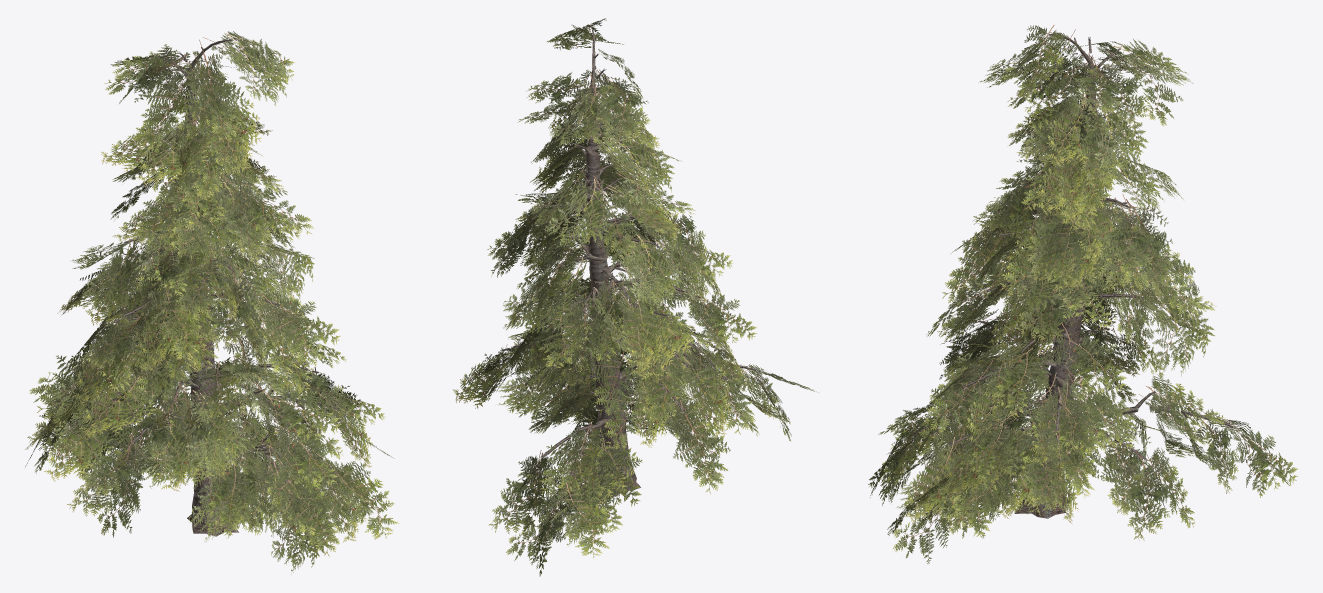
File: realfir.glb
The picture shows the model from 3 angles, left to right: view 1: azimuth 30°, elevation 25°; view 2: azimuth 150°, elevation 25°; view 3: azimuth 270°, elevation 25°; orthographic projection. The views are drawn at different scales.
Visible parts, largest first — view 1: Object_3, Object_7, Object_6, Object_4, Object_5, Object_9, Object_8, Object_2; view 2: Object_3, Object_5, Object_7, Object_9, Object_6, Object_4, Object_8, Object_2; view 3: Object_4, Object_6, Object_7, Object_3, Object_5, Object_9, Object_8, Object_2.
Part boxes in pixels (box(x1,y1,x2,y2)): Object_3: box(52, 31, 376, 574); Object_7: box(43, 98, 378, 542); Object_6: box(27, 47, 353, 528); Object_4: box(39, 63, 385, 547); Object_5: box(25, 44, 351, 556); Object_9: box(25, 31, 398, 539); Object_8: box(29, 33, 394, 537); Object_2: box(81, 39, 337, 536); Object_3: box(498, 24, 747, 546); Object_5: box(487, 66, 778, 495); Object_7: box(453, 93, 790, 503); Object_9: box(465, 18, 728, 557); Object_6: box(488, 69, 817, 540); Object_4: box(478, 81, 757, 576); Object_8: box(477, 35, 791, 564); Object_2: box(502, 29, 756, 499); Object_4: box(868, 54, 1297, 537); Object_6: box(942, 41, 1238, 540); Object_7: box(905, 88, 1178, 534); Object_3: box(878, 29, 1229, 520); Object_5: box(870, 51, 1213, 513); Object_9: box(879, 25, 1260, 535); Object_8: box(886, 29, 1291, 563); Object_2: box(913, 34, 1233, 518).
Bounding box in the file's own units: 5.15 × 7 × 5.51.
Materials: 8 (8 with a texture image).
